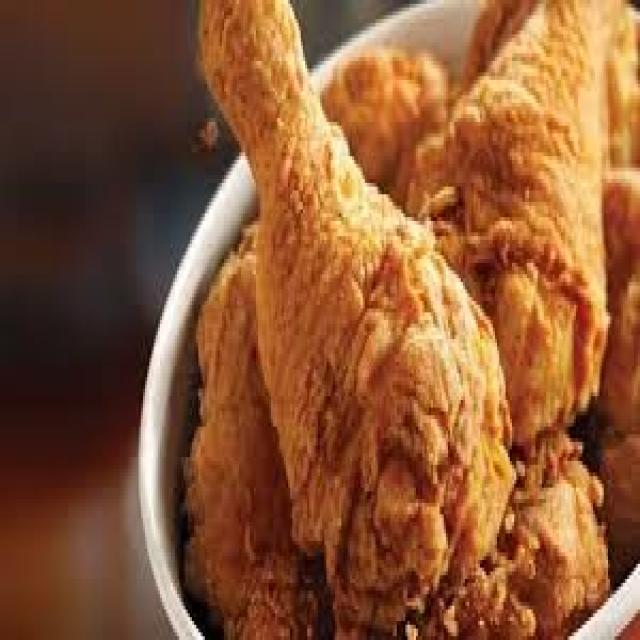Frango: (235, 15, 465, 585), (434, 0, 613, 429), (157, 281, 272, 608)
